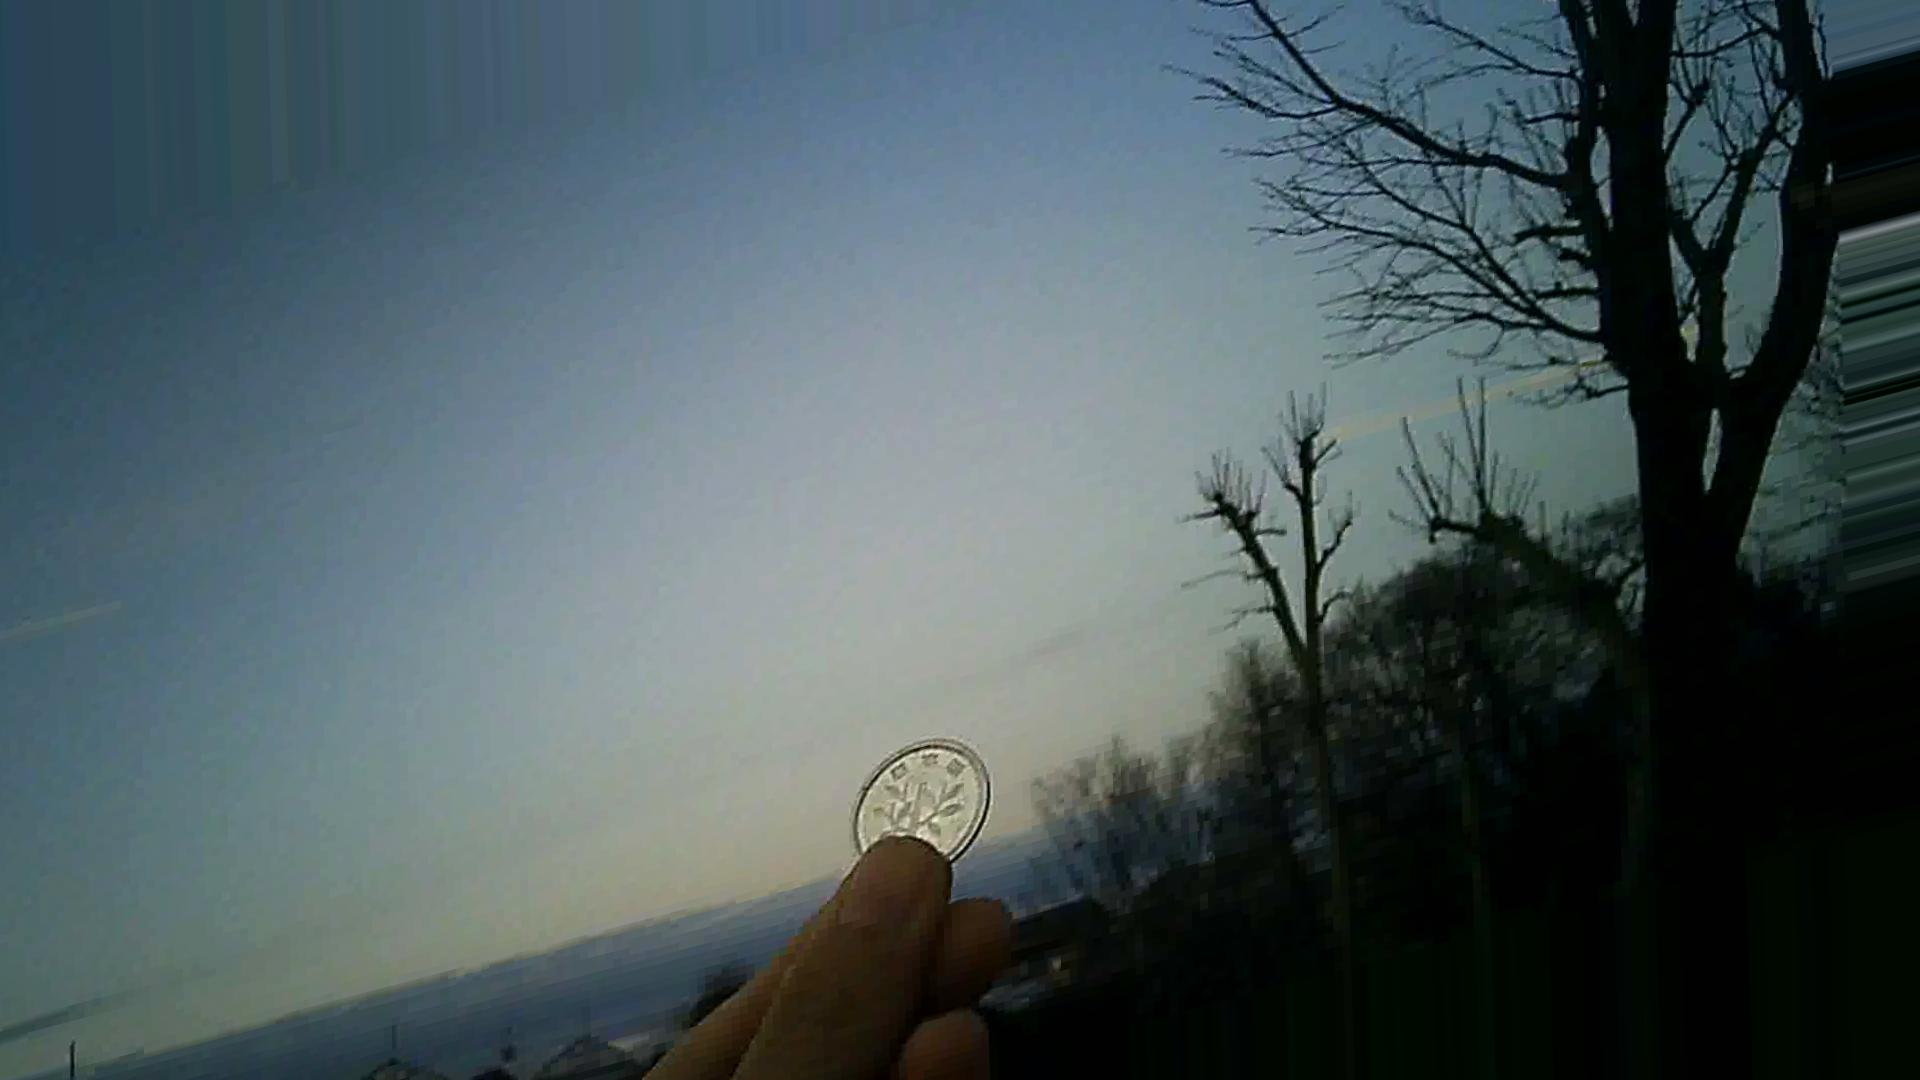1 Yen: (845, 731, 1002, 874)
